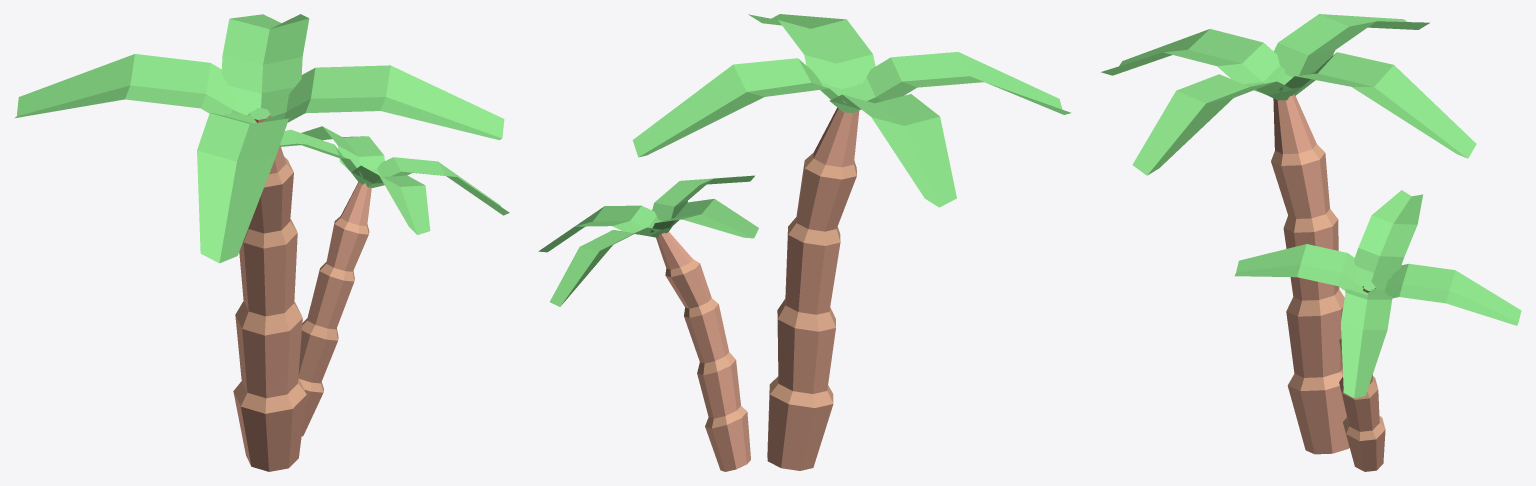
Rendered from palmss.fbx.
3 views of the same model, side by side, from view 1: azimuth 30°, elevation 25°; view 2: azimuth 150°, elevation 25°; view 3: azimuth 270°, elevation 25° (orthographic). The views are drawn at different scales.
Visible parts, largest first — view 1: Plane, Plane.001; view 2: Plane, Plane.001; view 3: Plane, Plane.001.
Boxes of the visible parts, x1,y1,x2,y2 form: Plane: (14,14,504,471); Plane.001: (280,126,509,436); Plane: (632,14,1070,470); Plane.001: (538,175,758,471); Plane: (1101,14,1476,454); Plane.001: (1234,190,1521,471).
Bounding box in the file's own units: 1452 × 1257 × 1245.
